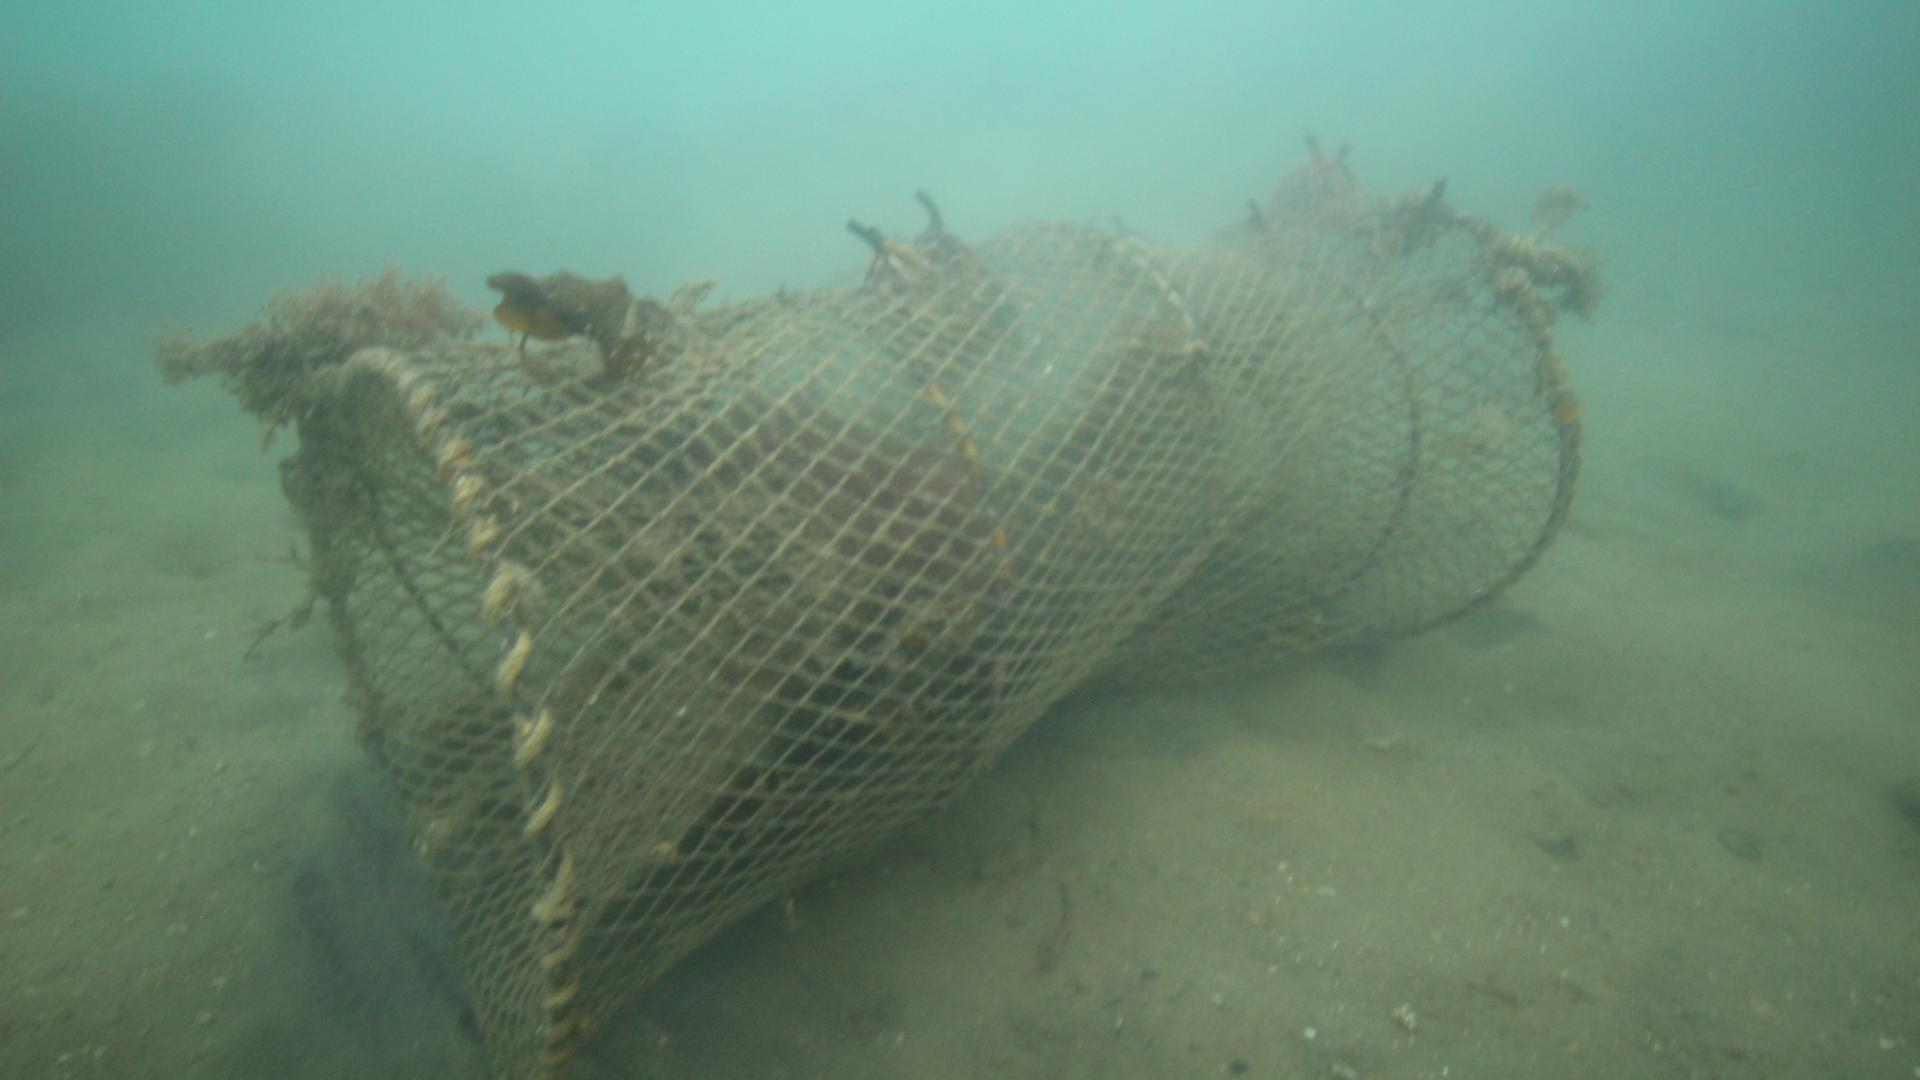spring fish trap: (299, 162, 1590, 1080)
